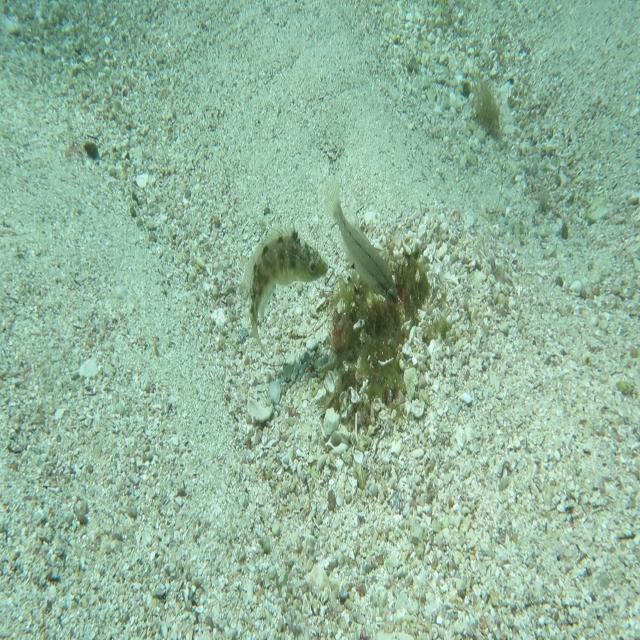GB: (242, 217, 330, 365)
female: (324, 175, 400, 308)
nest: (318, 225, 448, 429)
